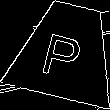P_N: (42, 22, 91, 80)
